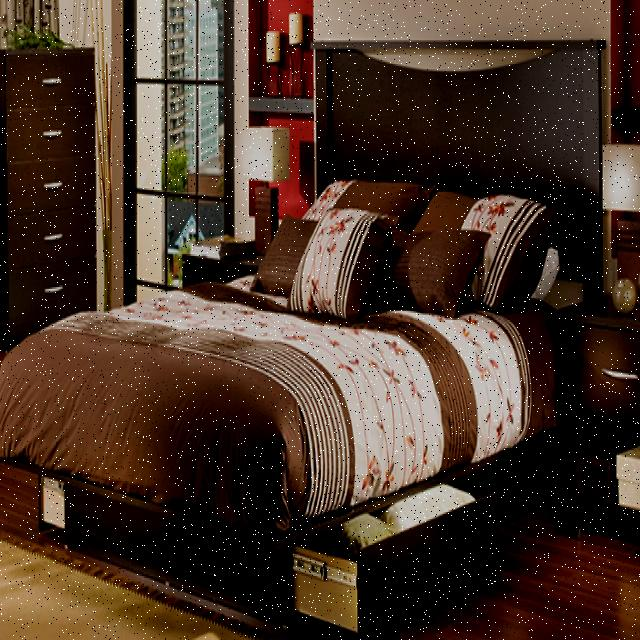bed: (8, 31, 610, 637)
